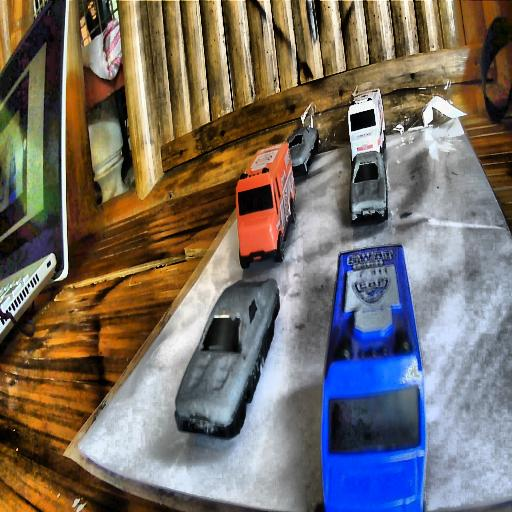ambulance: (347, 87, 385, 162)
fire_truck: (234, 141, 294, 270)
normal_car: (174, 277, 277, 439), (349, 150, 389, 226), (287, 125, 319, 177)
police car: (320, 246, 426, 512)
